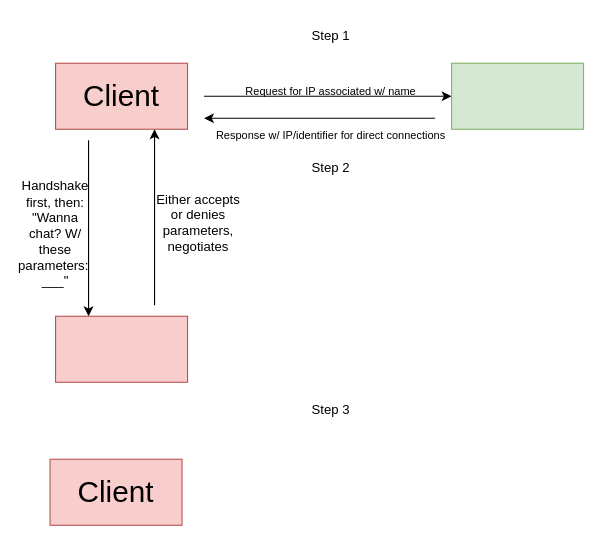
The diagram is 603 pixels wide and 554 high, and some of its shapes have lost their labels. The centre of each missing label's shape, as x and y in pixels:
"Client 2" belongs at (x=121, y=348).
"Name server" belongs at (x=517, y=95).
